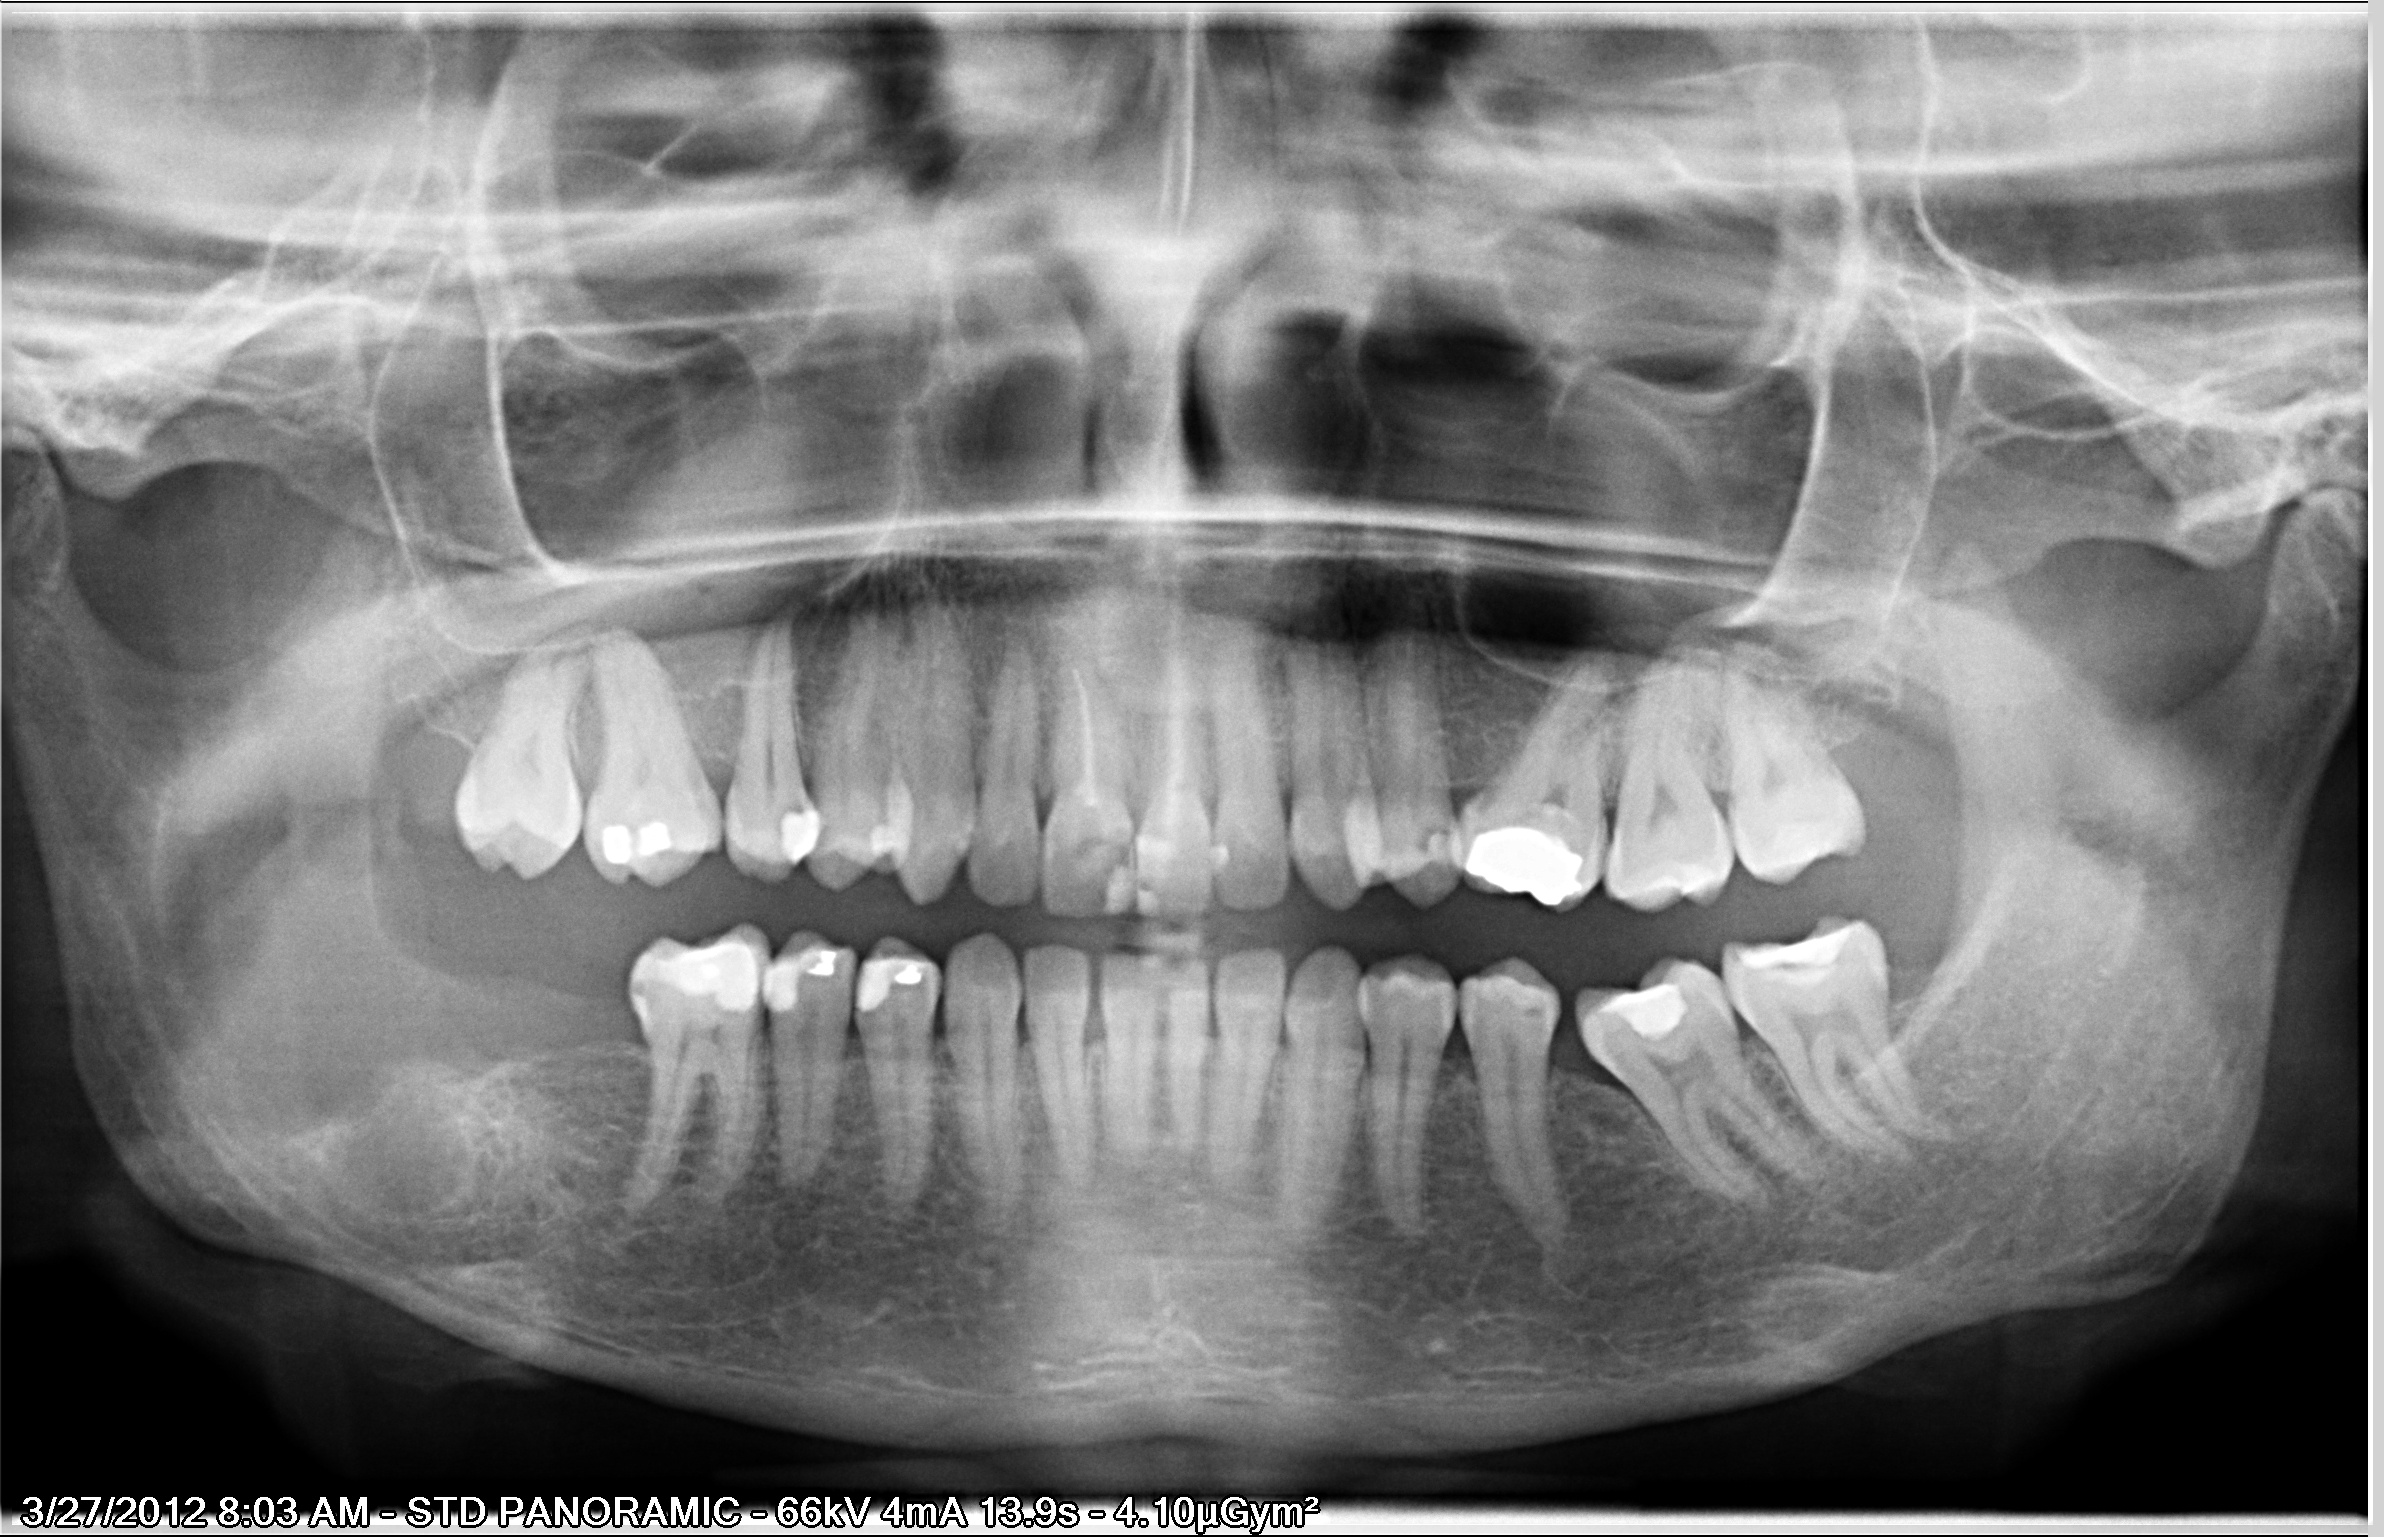CAR: (598, 955, 672, 1016), (756, 787, 832, 835), (1510, 985, 1555, 1039), (1399, 809, 1460, 848)
END: (1133, 643, 1201, 821), (1055, 653, 1117, 820)
OBT: (641, 919, 778, 1032), (1449, 811, 1604, 908), (1713, 905, 1880, 993), (1593, 962, 1699, 1059), (751, 926, 843, 1025), (1126, 821, 1197, 931), (844, 931, 928, 1021), (761, 794, 832, 877), (624, 799, 693, 870), (1661, 844, 1725, 908), (1089, 854, 1149, 922), (580, 816, 648, 870), (1190, 827, 1249, 879), (792, 947, 855, 988), (886, 953, 931, 995)
